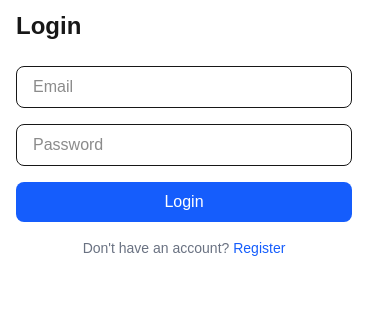
Test: LoginPage › shows error on failed login
Type "bad@test.com" into the field with placeholder "Email". click: point(184, 87)
box: [16, 66, 352, 108]
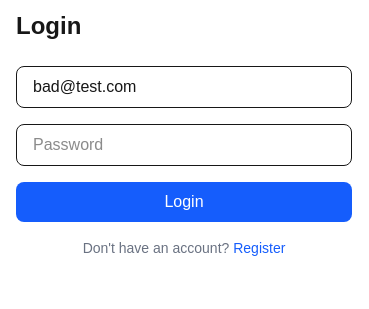
Type "wrong" into the password field with placeholder "Password". click: point(184, 145)
box: [16, 124, 352, 166]
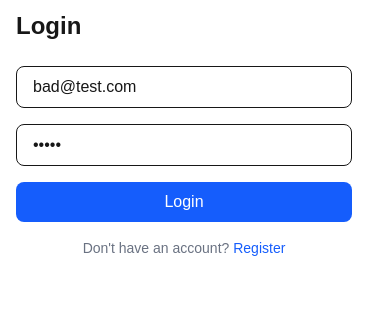
Submit the form with placeholder "Email", box [16, 66, 352, 222]
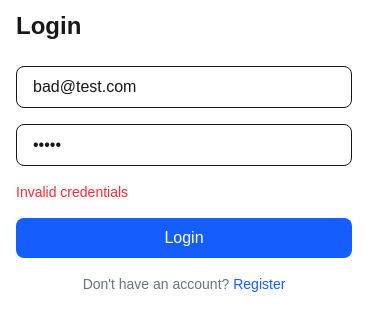
Check: the text "Invalid credentials" is shown, box [16, 184, 128, 200]
